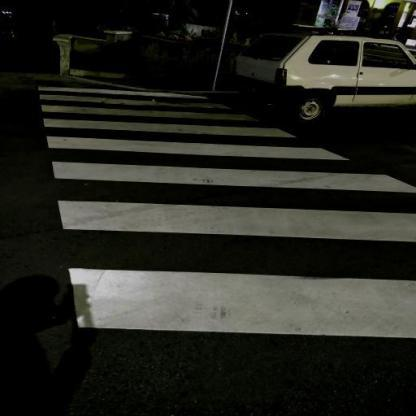crosswalk: (51, 196, 415, 342), (39, 116, 357, 163)
